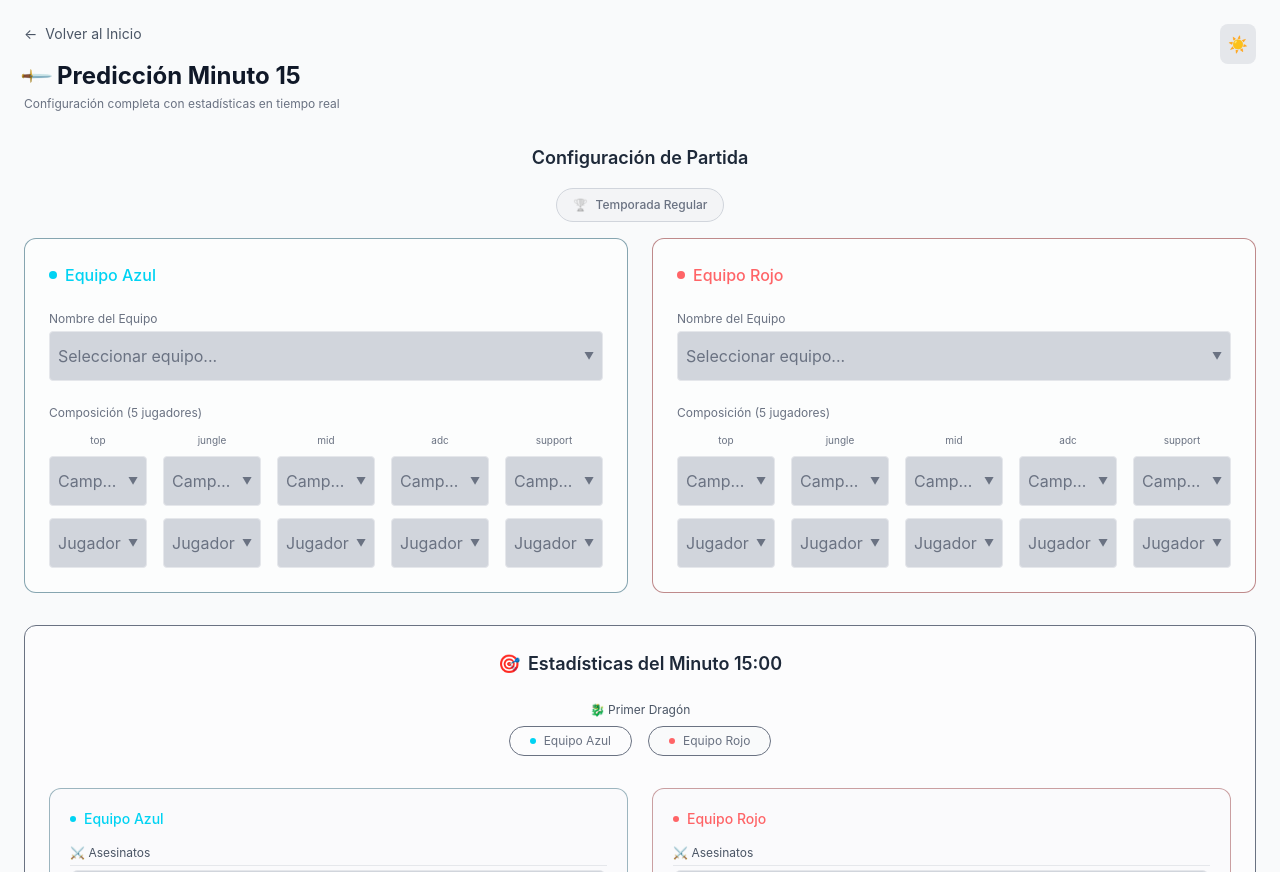
it: Componente Min15Prediction › alterna correctamente el botón de Playoffs / Temporada Regular
Note: Al hacer clic, debe cambiar a Playoffs
Click the button "🏆 Temporada Regular" at (640, 205), box [556, 188, 724, 222]
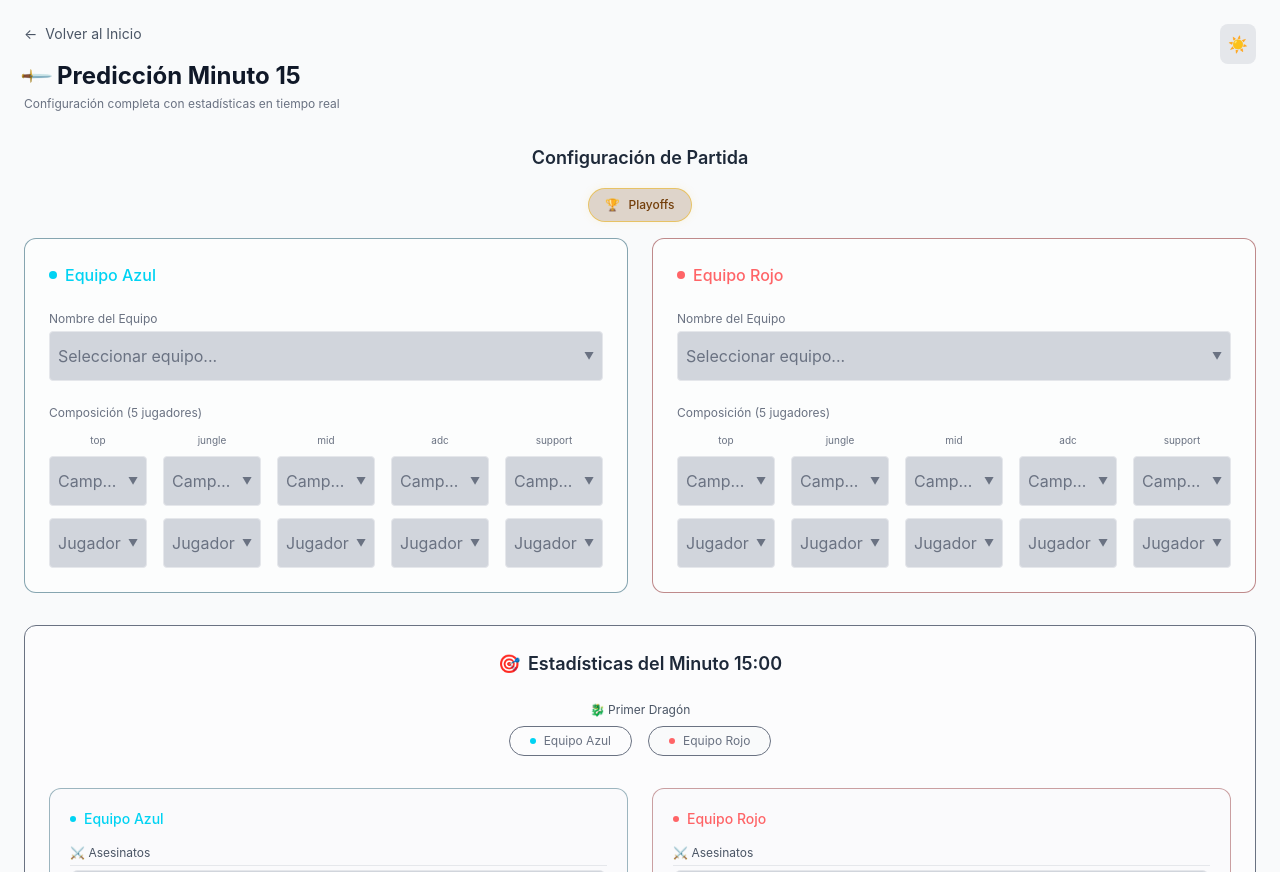
Expected: the button "🏆 Playoffs" is shown, [588, 188, 692, 222]
